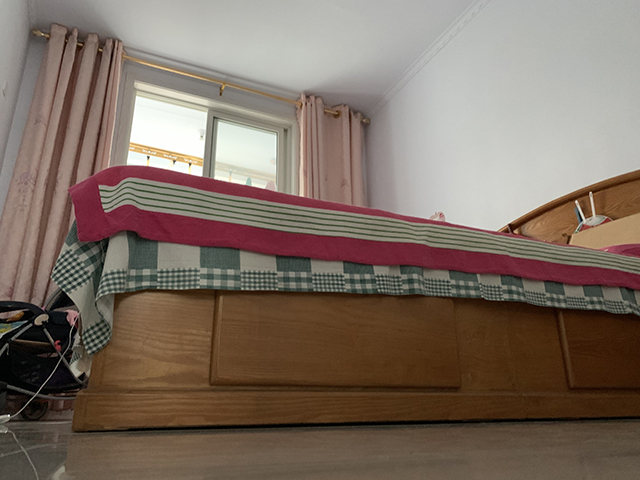bed: (65, 163, 640, 435)
curtain: (2, 16, 109, 306)
wire: (1, 309, 79, 425)
